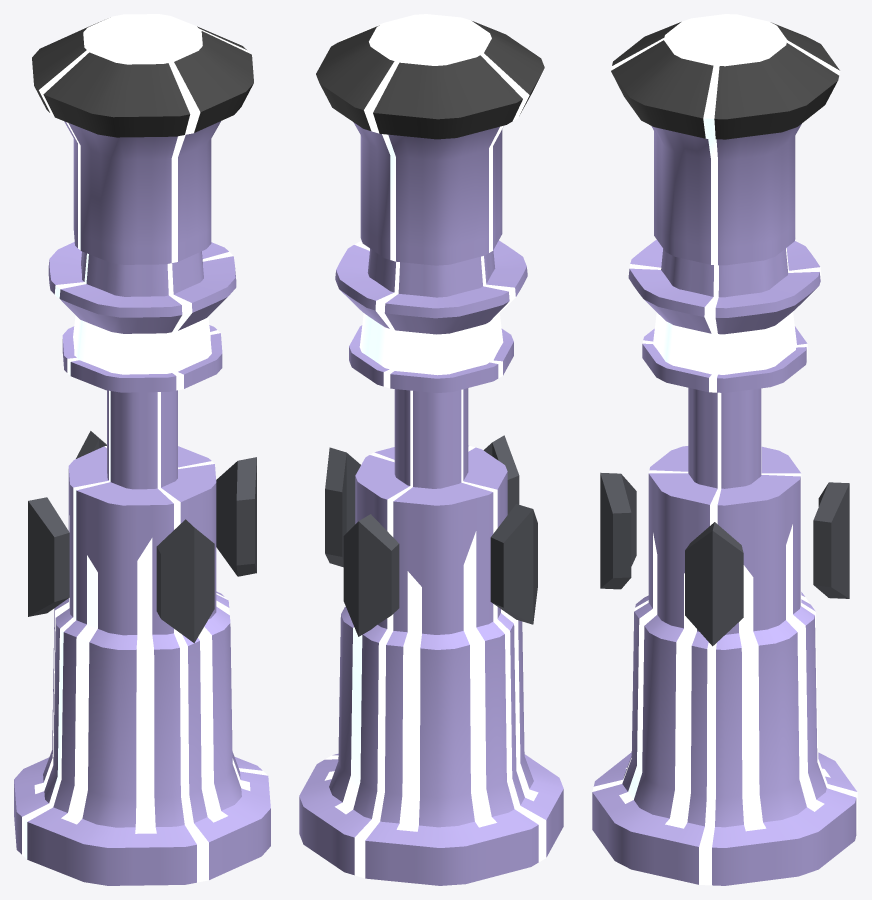
The model's file is antimatter_konstruckia.fbx.
3 renders of one model, left to right at view 1: azimuth 30°, elevation 25°; view 2: azimuth 150°, elevation 25°; view 3: azimuth 270°, elevation 25°, orthographic.
Visible parts, largest first — view 1: Circle.008; view 2: Circle.008; view 3: Circle.008.
Boxes of the visible parts, bbox=[...] form: Circle.008: bbox=[14, 14, 270, 885]; Circle.008: bbox=[299, 14, 563, 885]; Circle.008: bbox=[592, 14, 857, 885].
Size of the model in its own units: 241 by 791 by 241.
